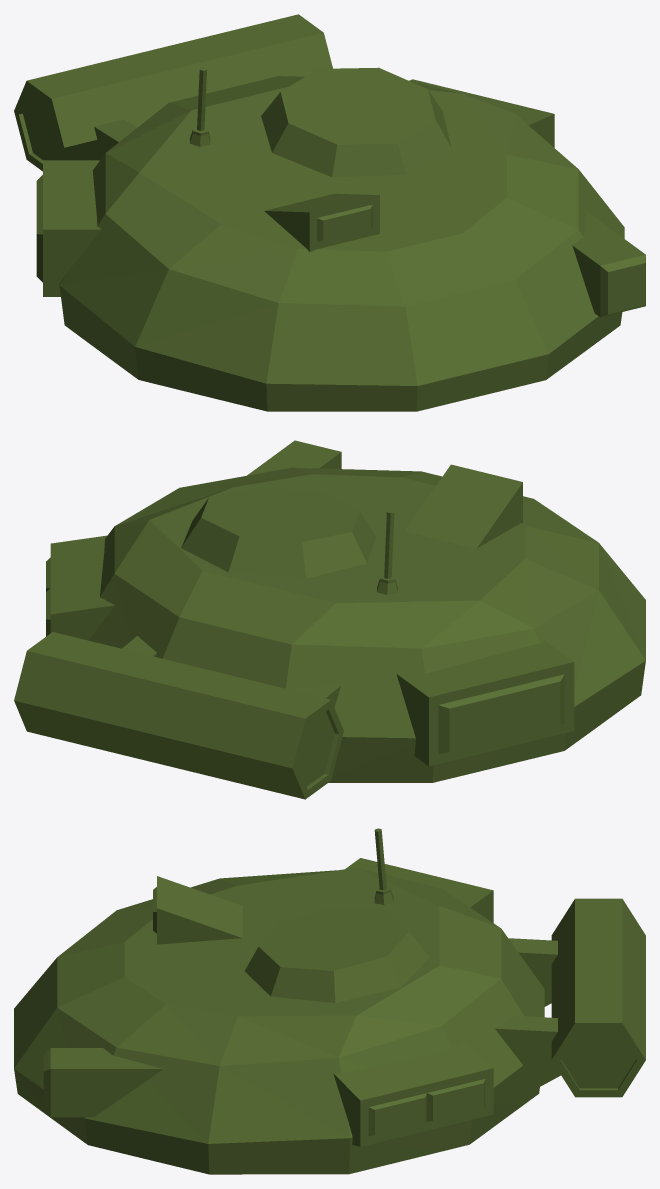
File: Proto_Vehicle_Tank_Turret_Base_01.fbx
3 renders of one model, top to bottom at view 1: azimuth 30°, elevation 25°; view 2: azimuth 150°, elevation 25°; view 3: azimuth 270°, elevation 25°, orthographic. The views are drawn at different scales.
Parts seen in each view (by area): view 1: Proto_Vehicle_Tank_Turret_Base_01; view 2: Proto_Vehicle_Tank_Turret_Base_01; view 3: Proto_Vehicle_Tank_Turret_Base_01.
Boxes of the visible parts, x1,y1,x2,y2 form: Proto_Vehicle_Tank_Turret_Base_01: (14, 14, 645, 411); Proto_Vehicle_Tank_Turret_Base_01: (14, 440, 645, 799); Proto_Vehicle_Tank_Turret_Base_01: (14, 828, 645, 1174).
Size of the model in its own units: 2.78 by 1.08 by 3.17.
